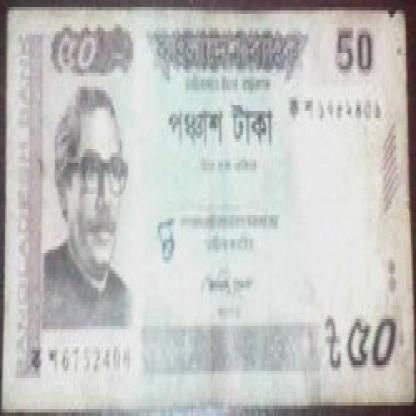Fifty taka: (53, 21, 116, 100), (338, 312, 406, 385)
